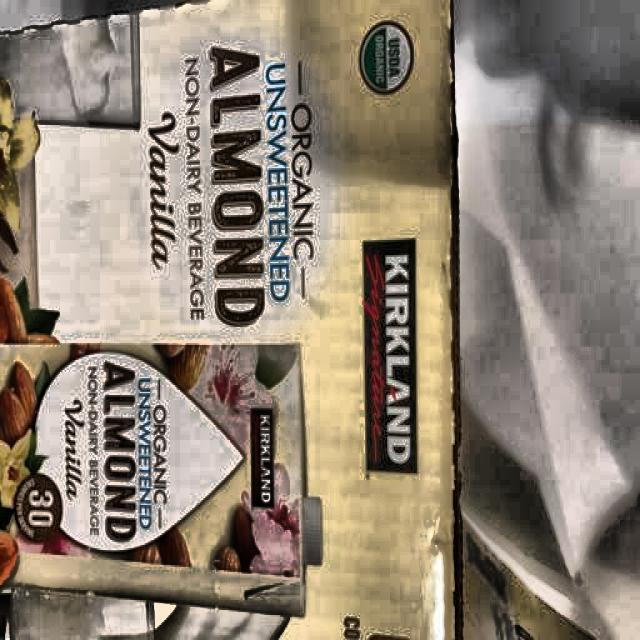cardboard: (0, 0, 460, 638)
